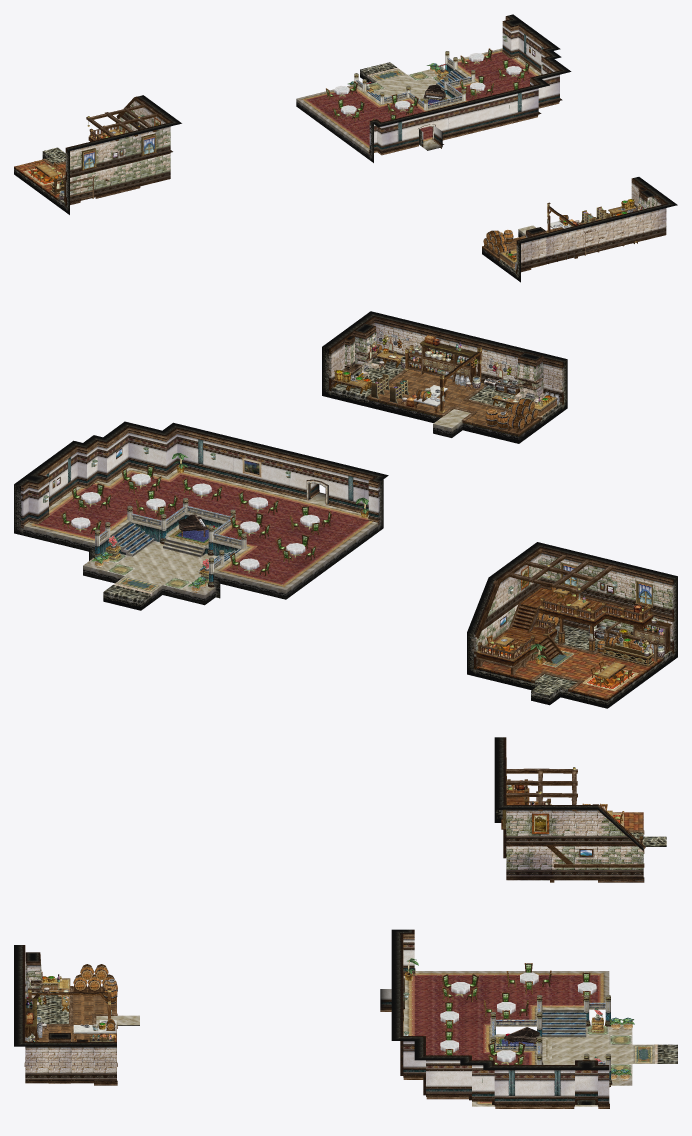
Rendered from anterose.gltf.
3 renders of one model, top to bottom at view 1: azimuth 30°, elevation 25°; view 2: azimuth 150°, elevation 25°; view 3: azimuth 270°, elevation 25°, orthographic. The views are drawn at different scales.
Visible parts, largest first — view 1: mesh_CD3DFile_Mesh (×31); view 2: mesh_CD3DFile_Mesh (×37); view 3: mesh_CD3DFile_Mesh (×31).
Part boxes in pixels (x1,y1,x2,y2): mesh_CD3DFile_Mesh (×31): [14, 17, 677, 282]; mesh_CD3DFile_Mesh (×37): [14, 311, 677, 708]; mesh_CD3DFile_Mesh (×31): [14, 737, 677, 1108].
Size of the model in its own units: 65.05 by 8.34 by 58.
Materials: 24 (24 with a texture image).
